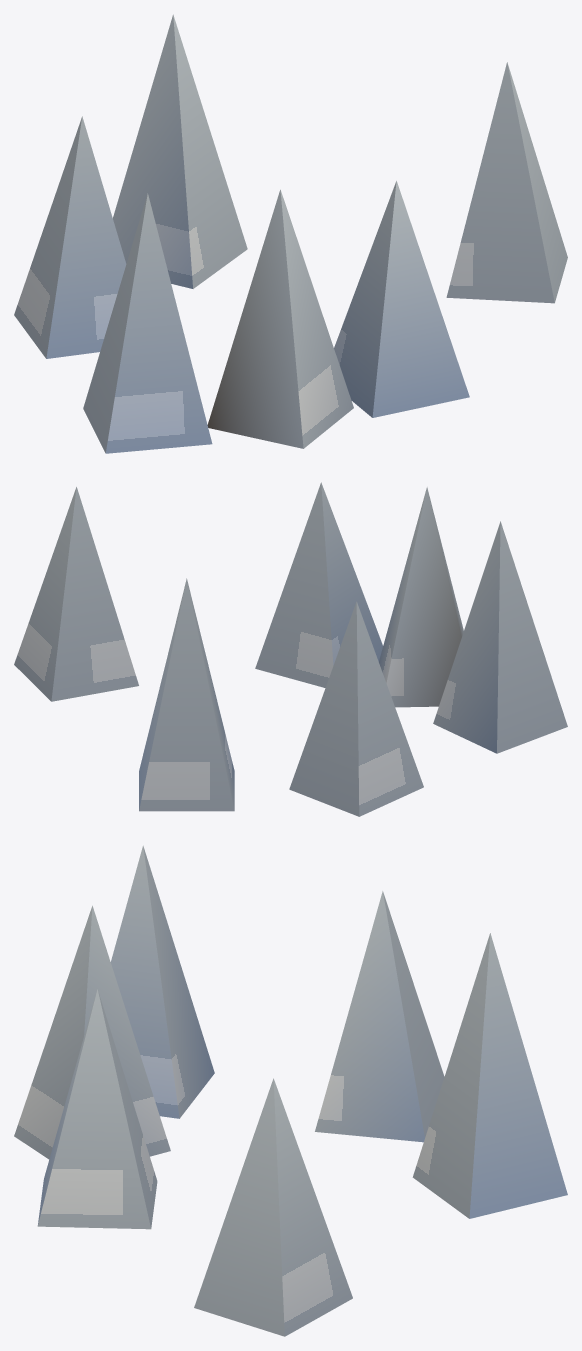
Rendered from mnat.flowers__tufts.glb.
3 views of the same model, one above another, from view 1: azimuth 30°, elevation 25°; view 2: azimuth 150°, elevation 25°; view 3: azimuth 270°, elevation 25° (orthographic). The views are drawn at different scales.
Parts seen in each view (by area): view 1: kit_plants; view 2: kit_plants; view 3: kit_plants.
Boxes of the visible parts, bbox=[...] form: kit_plants: bbox=[14, 14, 567, 453]; kit_plants: bbox=[14, 482, 567, 816]; kit_plants: bbox=[14, 845, 567, 1336].
Bounding box in the file's own units: 1.31 × 0.5569 × 1.1.
Materials: 1 (1 with a texture image).
